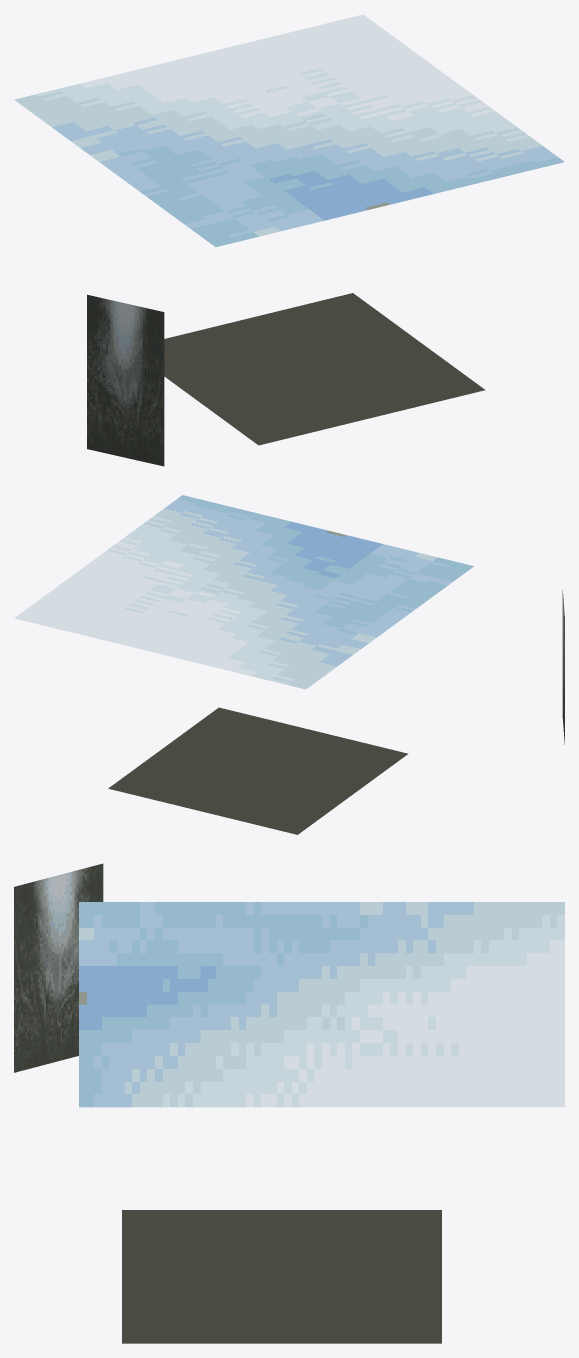
The picture shows the model from 3 angles, top to bottom: view 1: azimuth 30°, elevation 25°; view 2: azimuth 150°, elevation 25°; view 3: azimuth 270°, elevation 25°; orthographic projection. The views are drawn at different scales.
Parts seen in each view (by area): view 1: mesh00; view 2: mesh00; view 3: mesh00.
Part boxes in pixels (x1=…): mesh00: x1=14, y1=14, x2=564, y2=466; mesh00: x1=14, y1=495, x2=564, y2=834; mesh00: x1=14, y1=863, x2=564, y2=1343.
Bounding box in the file's own units: 26782 × 12373 × 22680.
